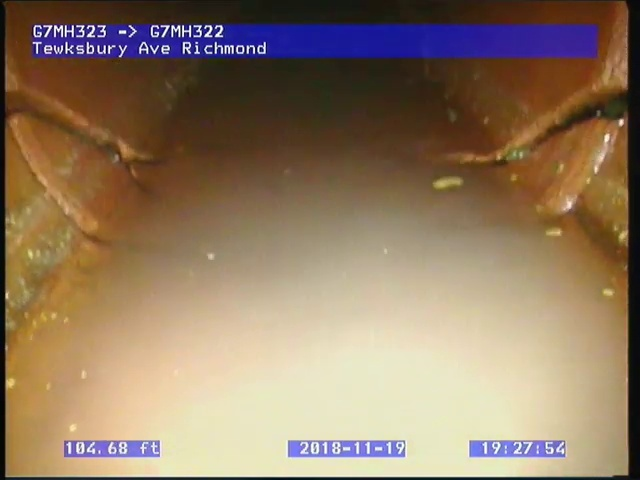crack: (3, 80, 176, 201), (463, 85, 628, 173)
